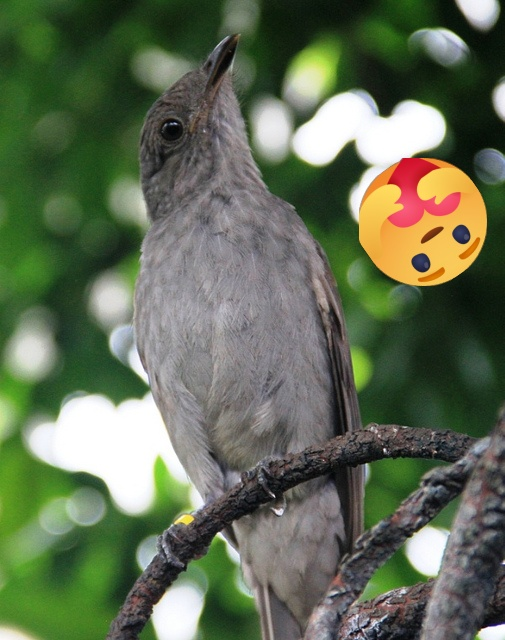care: (359, 158, 487, 286)
